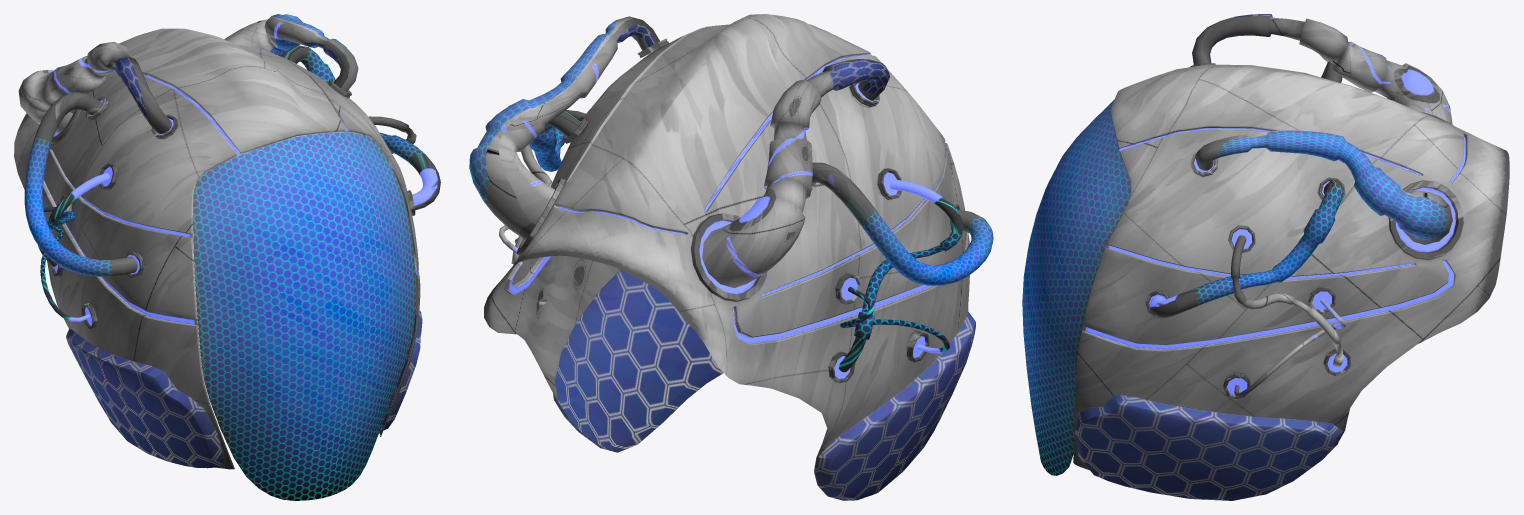
The model's file is CasqueDropTest.fbx.
3 renders of one model, left to right at view 1: azimuth 30°, elevation 25°; view 2: azimuth 150°, elevation 25°; view 3: azimuth 270°, elevation 25°, orthographic. The views are drawn at different scales.
Parts seen in each view (by area): view 1: Casque; view 2: Casque; view 3: Casque.
Part boxes in pixels (x1=…): Casque: x1=14, y1=14, x2=440, y2=500; Casque: x1=469, y1=14, x2=993, y2=500; Casque: x1=1022, y1=14, x2=1509, y2=500.
Size of the model in its own units: 29.82 by 29.33 by 32.39.
